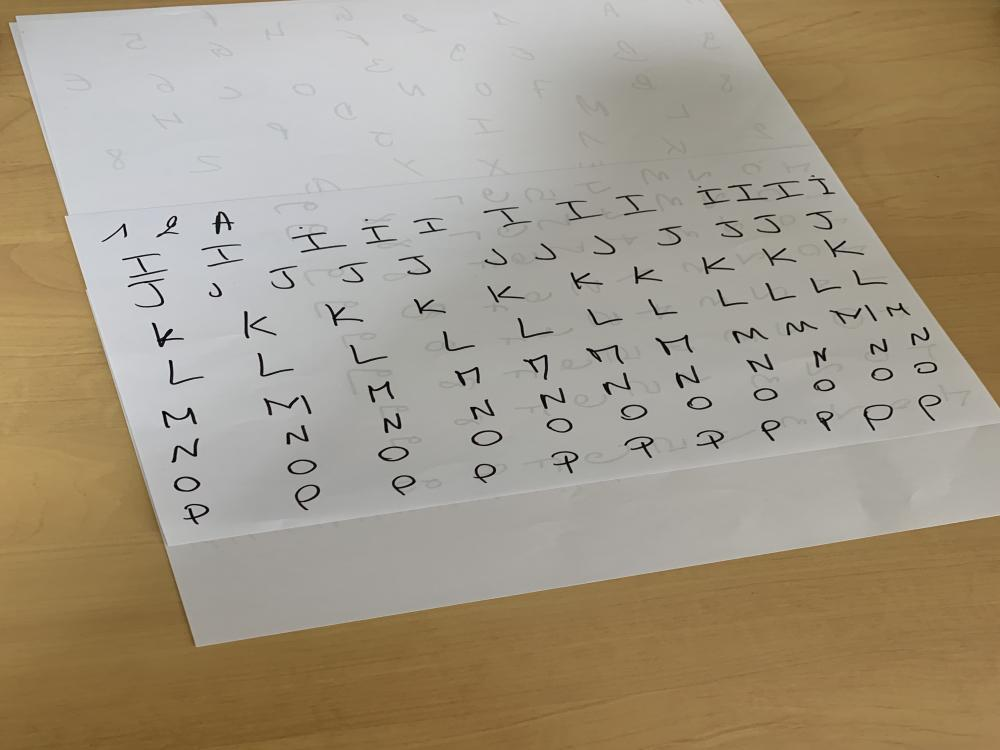0: (169, 472, 202, 494), (468, 429, 506, 447), (544, 416, 576, 436), (286, 458, 320, 476), (618, 404, 650, 422), (378, 446, 409, 463), (685, 394, 714, 412), (870, 367, 898, 382), (753, 387, 780, 402), (912, 360, 940, 374), (812, 378, 838, 393)
1: (98, 222, 134, 244)
2: (156, 214, 183, 239)
A: (208, 209, 239, 238)
I: (116, 250, 165, 278), (290, 230, 349, 253), (555, 198, 605, 223), (198, 243, 248, 268), (480, 206, 537, 227), (613, 194, 662, 218), (759, 181, 808, 202), (358, 224, 398, 248), (724, 183, 769, 203), (410, 216, 450, 236), (691, 186, 730, 205), (806, 178, 836, 195)
J: (118, 278, 175, 309), (266, 264, 304, 292), (584, 232, 624, 258), (335, 260, 370, 285), (649, 225, 687, 248), (803, 208, 839, 232), (710, 218, 746, 241), (396, 255, 436, 275), (751, 213, 785, 236), (482, 246, 514, 269), (532, 242, 564, 262), (204, 280, 228, 298)
K: (242, 309, 279, 340), (148, 319, 184, 350), (323, 303, 364, 327), (822, 238, 867, 258), (485, 284, 526, 304), (761, 247, 798, 266), (568, 271, 605, 290), (412, 297, 448, 316), (700, 256, 736, 274), (631, 266, 665, 284)
L: (164, 357, 204, 387), (254, 351, 296, 378), (515, 317, 556, 340), (348, 344, 390, 364), (441, 330, 477, 352), (714, 288, 750, 308), (585, 308, 625, 326), (764, 282, 798, 302), (851, 269, 890, 286), (808, 276, 843, 294), (648, 297, 678, 317)
M: (828, 304, 879, 328), (262, 394, 315, 416), (584, 344, 629, 367), (160, 407, 202, 431), (654, 334, 696, 356), (522, 353, 552, 382), (730, 326, 770, 346), (367, 380, 397, 404), (454, 366, 484, 387), (784, 320, 820, 337), (885, 301, 913, 319)
N: (170, 436, 208, 467), (601, 371, 634, 397), (672, 364, 703, 390), (470, 396, 500, 422), (540, 385, 570, 410), (744, 352, 776, 374), (285, 422, 314, 446), (382, 411, 403, 435), (910, 325, 932, 347), (810, 346, 829, 369), (869, 338, 891, 356)
P: (862, 404, 895, 432), (292, 484, 324, 512), (916, 393, 944, 424), (182, 502, 214, 528), (694, 428, 728, 452), (624, 435, 656, 460), (551, 450, 579, 475), (470, 462, 500, 485), (390, 474, 418, 496), (760, 419, 782, 444), (815, 410, 837, 434)
